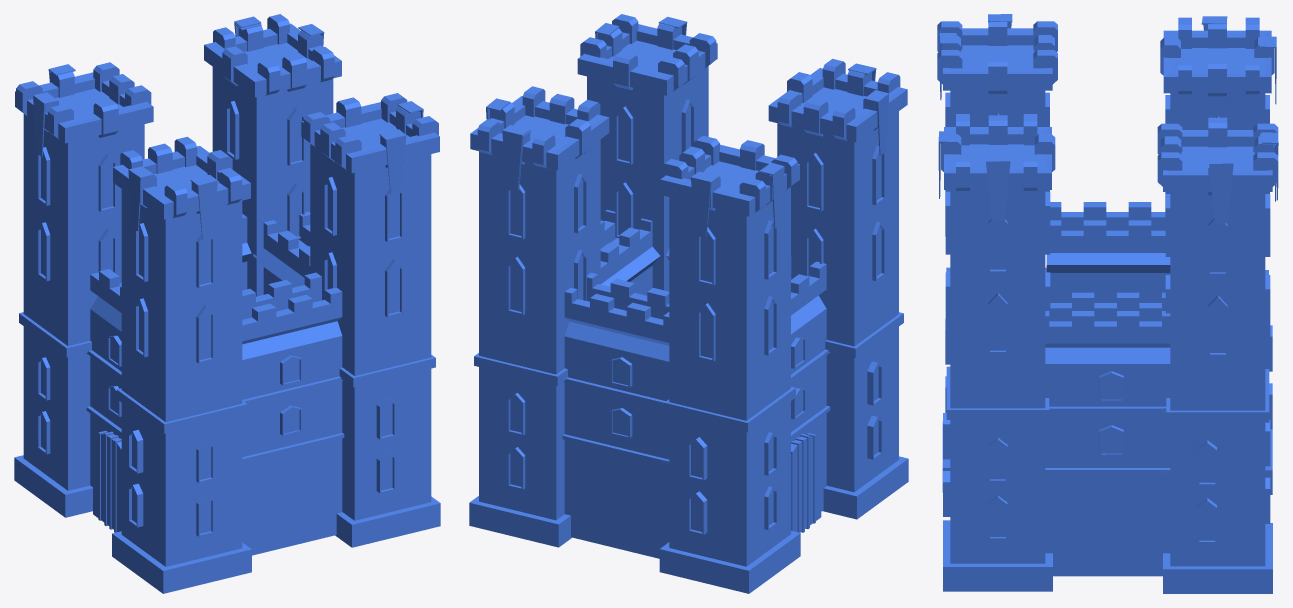
File: Castle_Variant3.fbx
3 views of the same model, side by side, from view 1: azimuth 30°, elevation 25°; view 2: azimuth 150°, elevation 25°; view 3: azimuth 270°, elevation 25° (orthographic). The views are drawn at different scales.
Parts seen in each view (by area): view 1: Castle_Variant3; view 2: Castle_Variant3; view 3: Castle_Variant3.
Part boxes in pixels (x1,y1,x2,y2): Castle_Variant3: (14,14,440,593); Castle_Variant3: (469,14,908,593); Castle_Variant3: (937,14,1278,593).
Size of the model in its own units: 750 by 1005 by 718.
